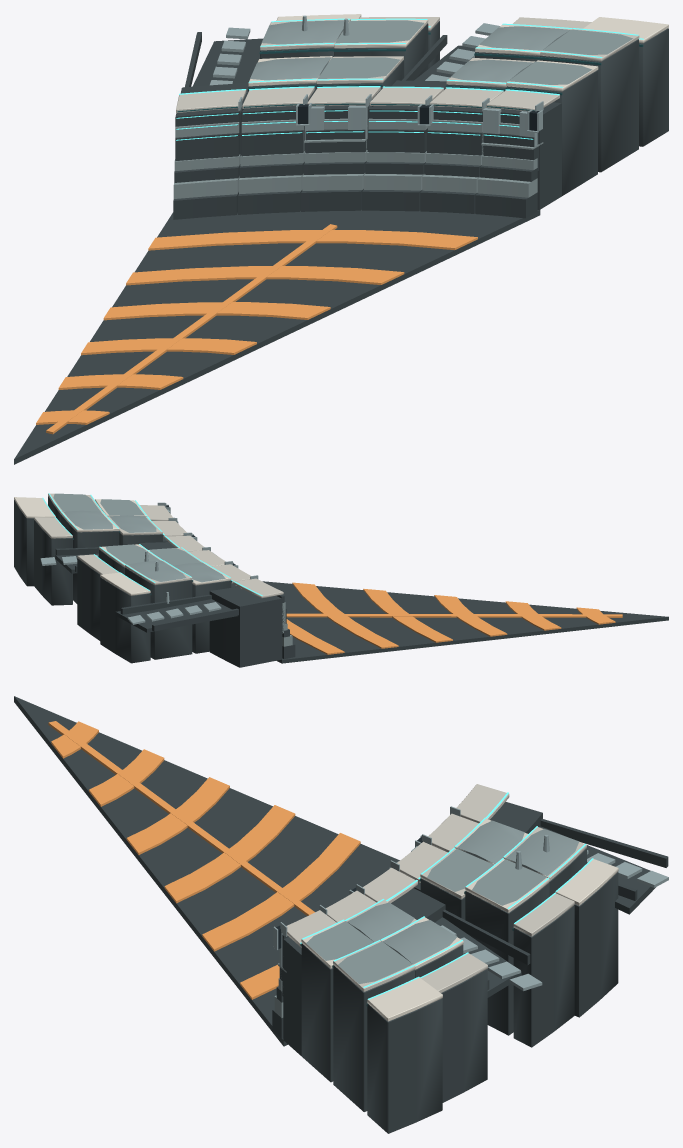
The model's file is Weather_Lung_Sector_01.glb.
3 views of the same model, one above another, from view 1: azimuth 30°, elevation 25°; view 2: azimuth 150°, elevation 25°; view 3: azimuth 270°, elevation 25° (orthographic). The views are drawn at different scales.
Parts seen in each view (by area): view 1: Weather_Lung_Sector_01; view 2: Weather_Lung_Sector_01; view 3: Weather_Lung_Sector_01.
Part boxes in pixels (x1,y1,x2,y2): Weather_Lung_Sector_01: (14,14,668,464); Weather_Lung_Sector_01: (14,493,668,667); Weather_Lung_Sector_01: (14,696,668,1133).
Bounding box in the file's own units: 10958 × 1752 × 6919.
